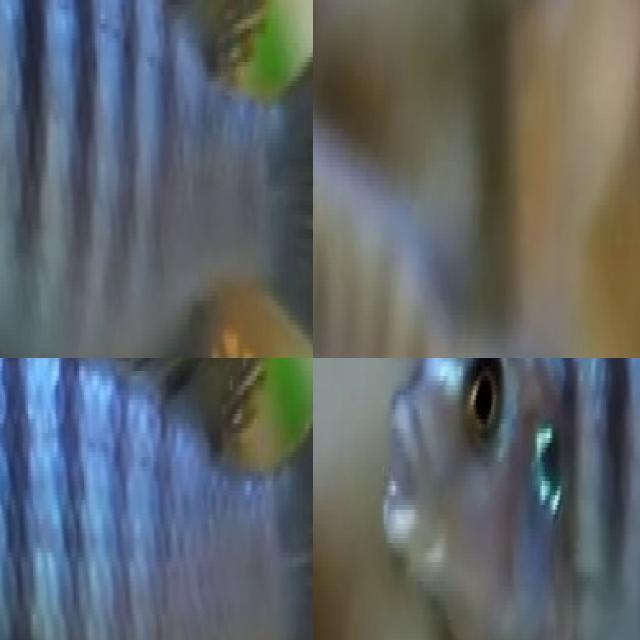fish: (0, 0, 313, 358), (313, 358, 640, 640)
